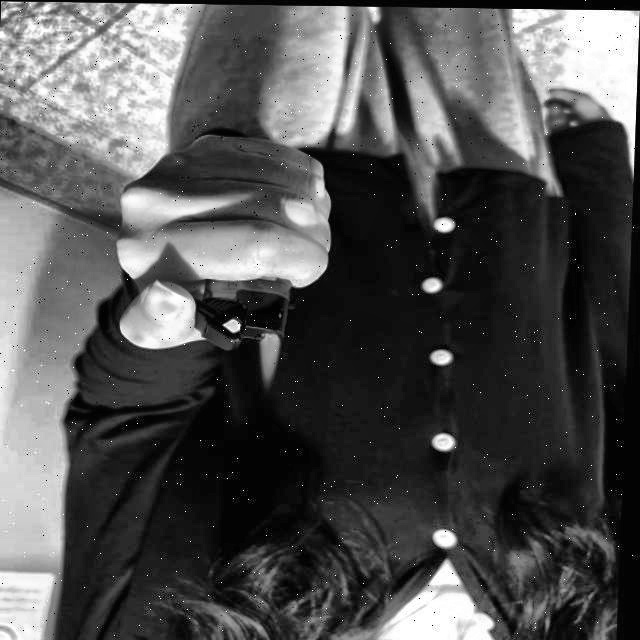Fire: (256, 329, 288, 388)
